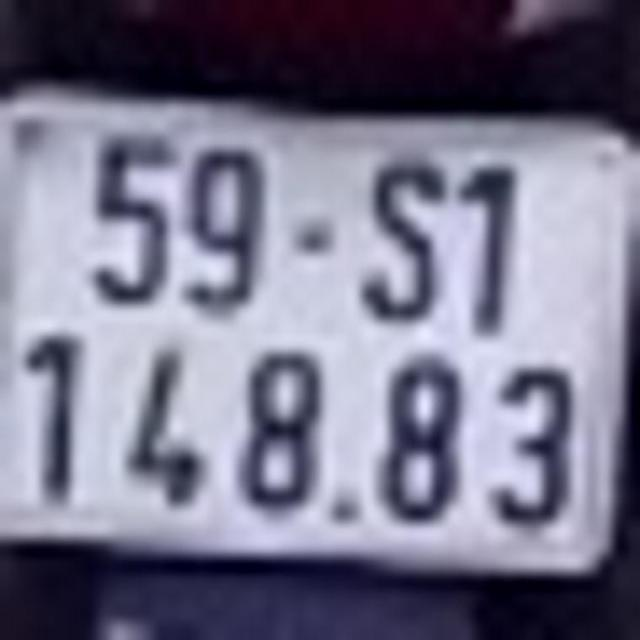1: (454, 156, 526, 338), (18, 330, 82, 503)
3: (492, 357, 576, 526)
4: (113, 336, 219, 511)
5: (89, 130, 178, 308), (184, 142, 264, 316)
8: (372, 344, 468, 529), (236, 342, 322, 518)
S: (358, 152, 448, 321)
